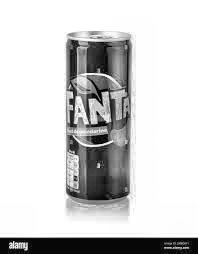snackbag: (51, 19, 149, 216)
